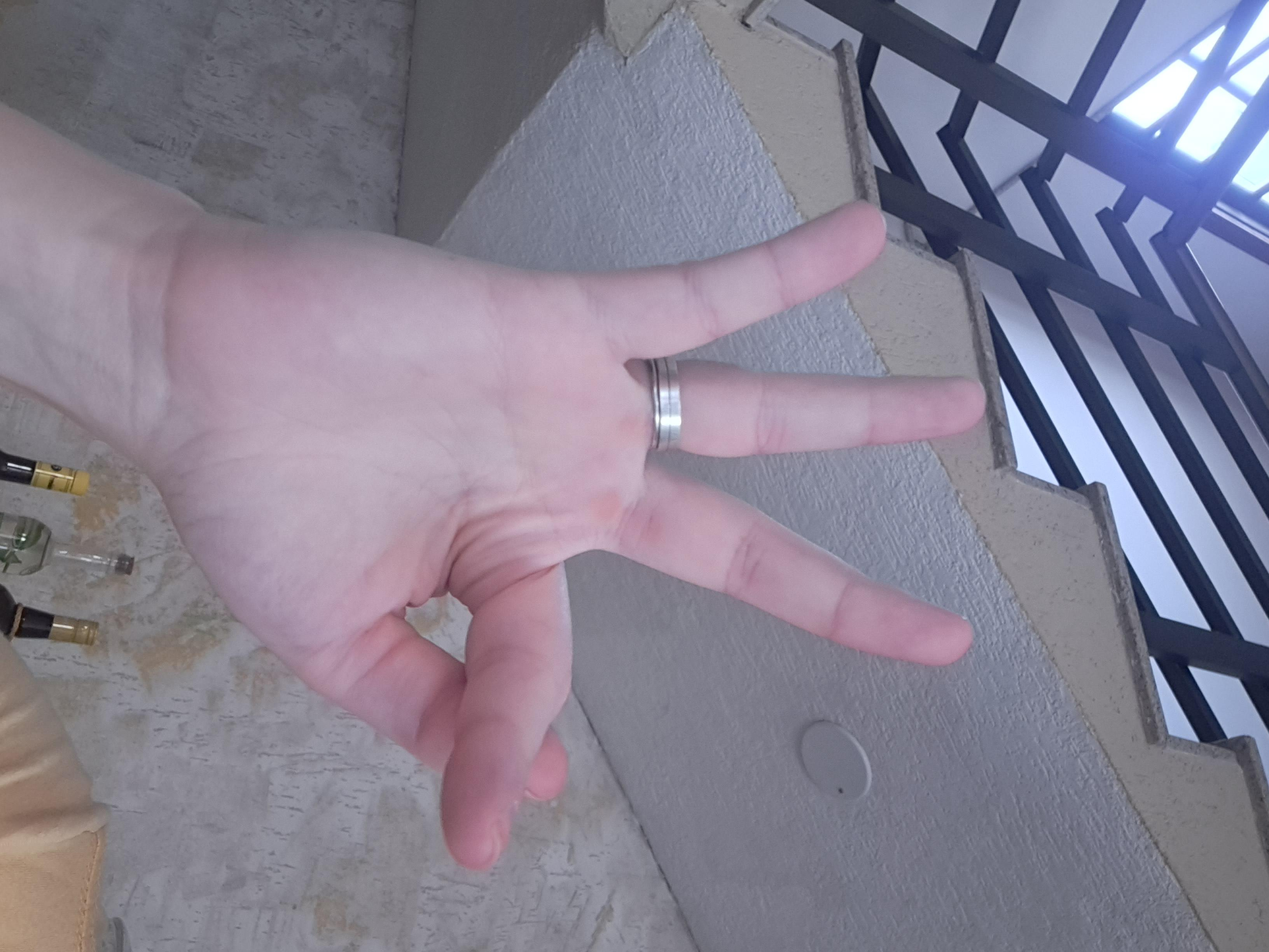F: (228, 175, 1187, 840)
